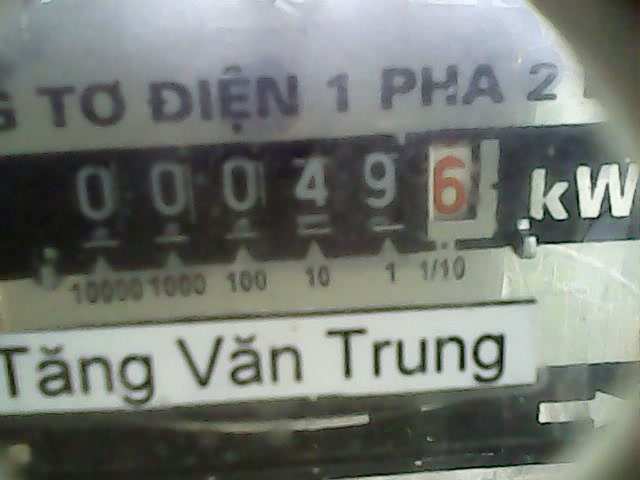phy_plate: (59, 132, 515, 265)
